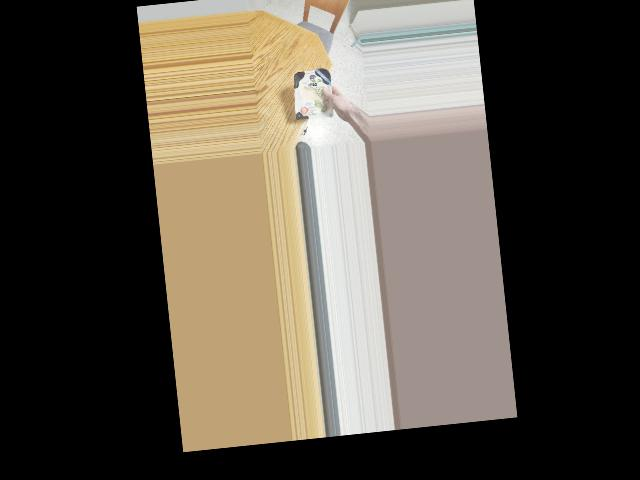cheese: (290, 56, 337, 131)
